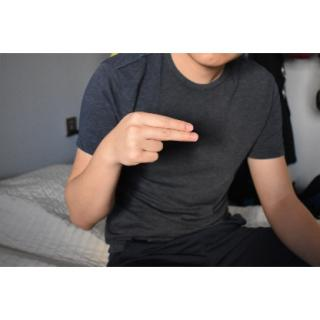AYN: (104, 108, 206, 168)
